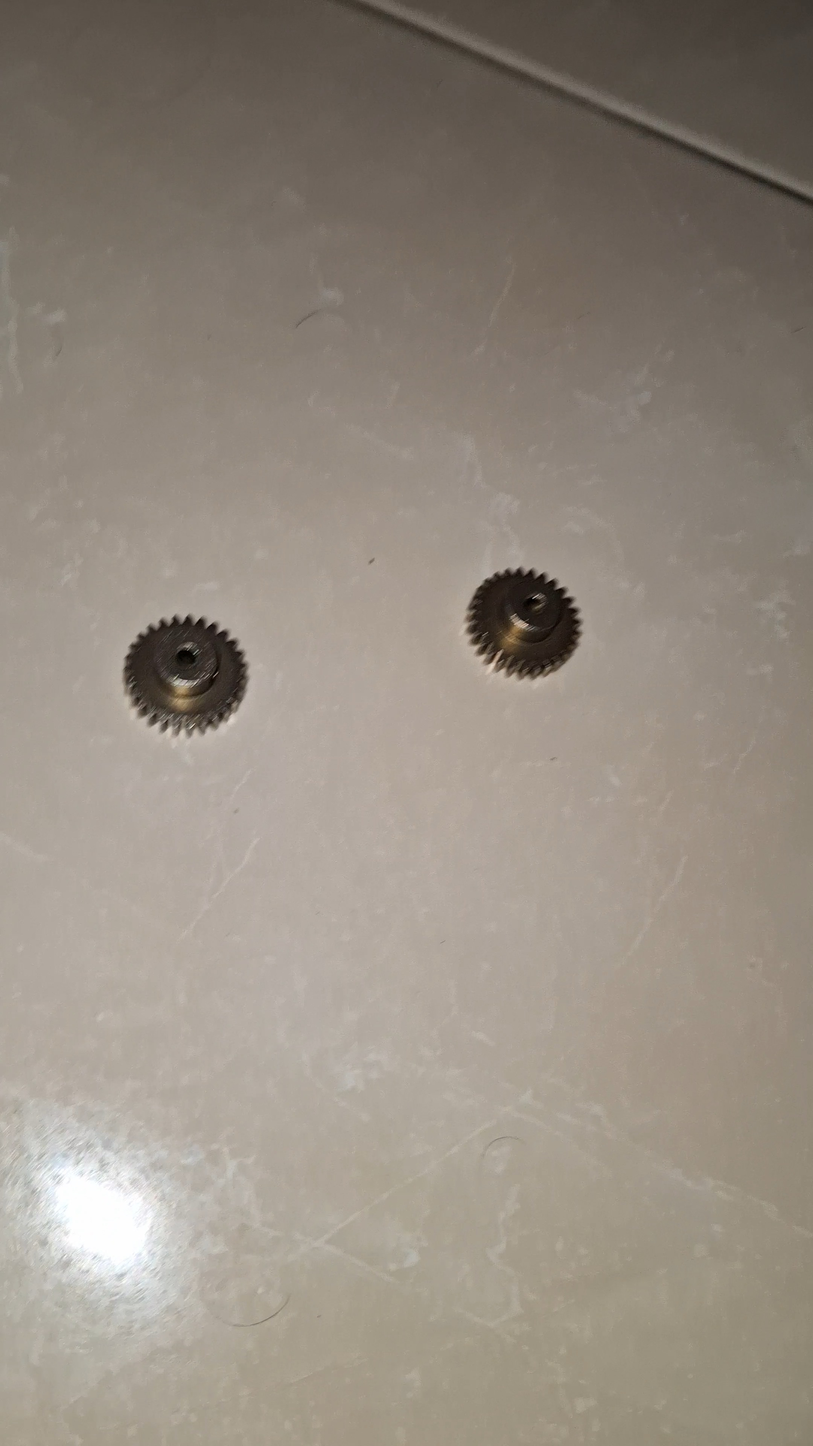spur gear: (124, 616, 247, 732), (467, 570, 580, 677)
